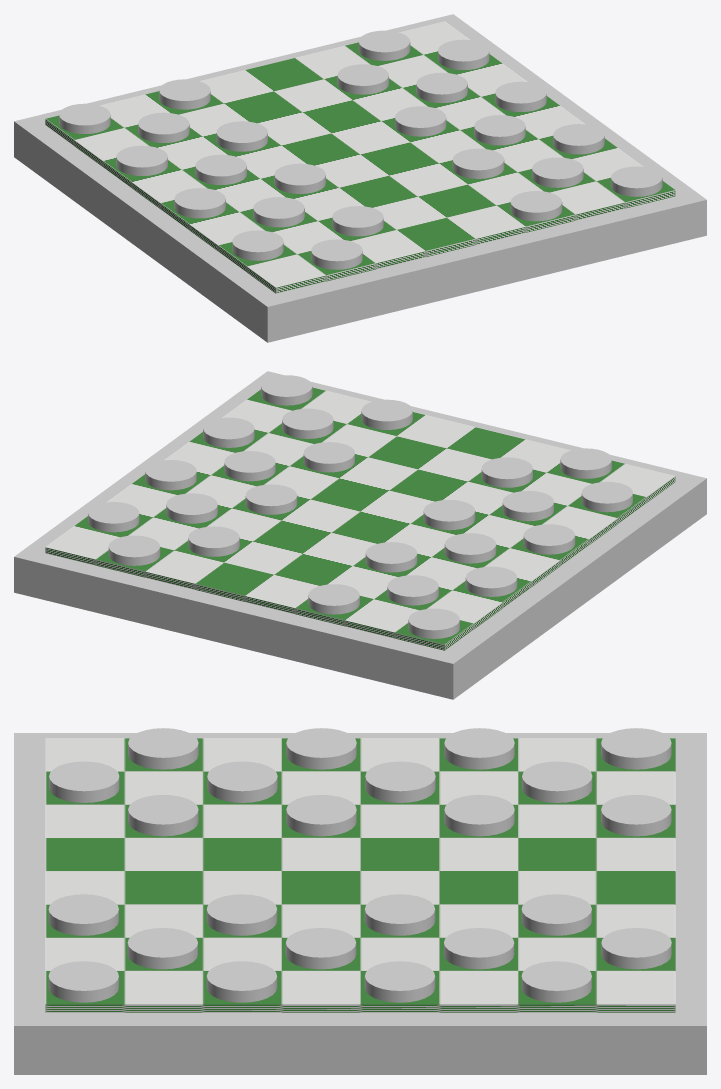
Rendered from Jogo de Dama.fbx.
The picture shows the model from 3 angles, top to bottom: view 1: azimuth 30°, elevation 25°; view 2: azimuth 150°, elevation 25°; view 3: azimuth 270°, elevation 25°; orthographic projection. The views are drawn at different scales.
Parts seen in each view (by area): view 1: JogoDamasTextura, JogoDamas, JogoDamasPeçasBrancas, JogoDamasPeçasPretas; view 2: JogoDamasTextura, JogoDamas, JogoDamasPeçasPretas, JogoDamasPeçasBrancas; view 3: JogoDamasTextura, JogoDamas, JogoDamasPeçasBrancas, JogoDamasPeçasPretas.
Boxes of the visible parts, left/top/right/bottom form: JogoDamasTextura: left=45, top=21, right=675, bottom=293; JogoDamas: left=14, top=14, right=706, bottom=342; JogoDamasPeçasBrancas: left=337, top=30, right=662, bottom=221; JogoDamasPeçasPretas: left=59, top=79, right=383, bottom=269; JogoDamasTextura: left=45, top=387, right=675, bottom=650; JogoDamas: left=14, top=371, right=706, bottom=699; JogoDamasPeçasPretas: left=308, top=448, right=632, bottom=638; JogoDamasPeçasBrancas: left=88, top=375, right=412, bottom=565; JogoDamasTextura: left=45, top=738, right=675, bottom=1012; JogoDamas: left=14, top=733, right=706, bottom=1074; JogoDamasPeçasBrancas: left=48, top=894, right=671, bottom=1002; JogoDamasPeçasPretas: left=49, top=728, right=671, bottom=836.
Bounding box in the file's own units: 26.64 × 2.93 × 26.64.
